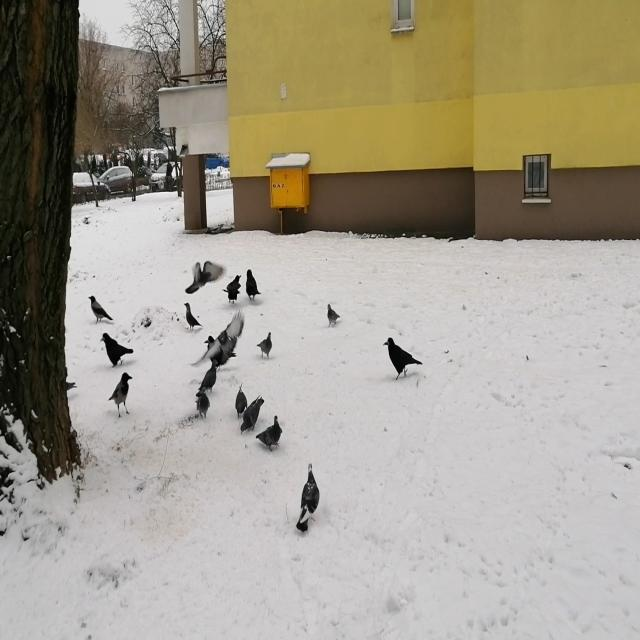bird: (189, 311, 244, 367), (296, 462, 320, 530), (383, 337, 422, 378), (186, 260, 227, 295), (100, 332, 134, 367), (109, 373, 132, 419), (240, 397, 264, 433), (258, 416, 282, 450), (88, 294, 114, 323), (246, 268, 260, 302), (227, 274, 241, 304), (257, 332, 272, 359), (197, 388, 210, 418), (236, 385, 246, 416), (328, 304, 340, 326)
